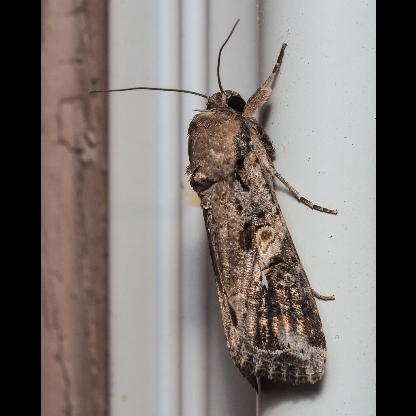Fall Armyworm Moth: (85, 16, 340, 398)
